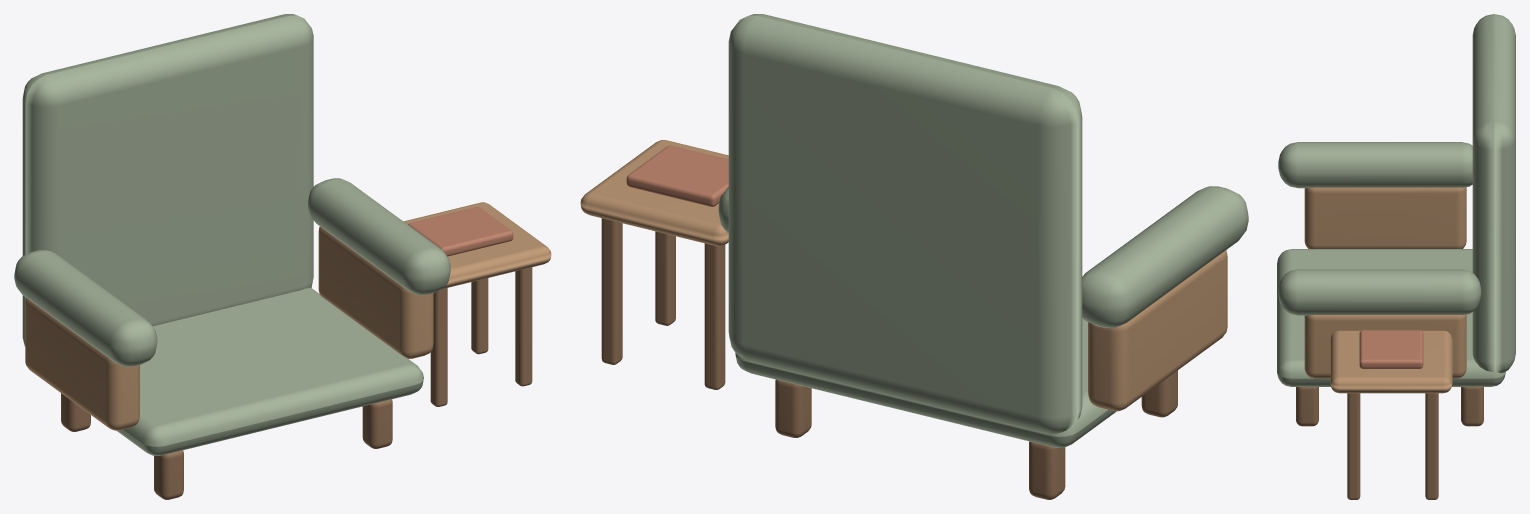
File: reading-seat-props.glb
3 renders of one model, left to right at view 1: azimuth 30°, elevation 25°; view 2: azimuth 150°, elevation 25°; view 3: azimuth 270°, elevation 25°, orthographic. The views are drawn at different scales.
Visible parts, largest first — view 1: ReaderChair.Static.Library | sage chair, ReaderChair.Static.Library | honey oak, ReaderChair.Static.Library | walnut legs, ReaderSideTable.Book; view 2: ReaderChair.Static.Library | sage chair, ReaderChair.Static.Library | honey oak, ReaderChair.Static.Library | walnut legs, ReaderSideTable.Book; view 3: ReaderChair.Static.Library | sage chair, ReaderChair.Static.Library | honey oak, ReaderChair.Static.Library | walnut legs, ReaderSideTable.Book.
Part boxes in pixels (box(x1,y1,x2,y2)): ReaderChair.Static.Library | sage chair: box(14, 14, 450, 455); ReaderChair.Static.Library | honey oak: box(25, 202, 551, 430); ReaderChair.Static.Library | walnut legs: box(61, 267, 532, 499); ReaderSideTable.Book: box(408, 207, 513, 256); ReaderChair.Static.Library | sage chair: box(718, 14, 1248, 447); ReaderChair.Static.Library | honey oak: box(580, 140, 1227, 411); ReaderChair.Static.Library | walnut legs: box(601, 218, 1177, 499); ReaderSideTable.Book: box(626, 145, 728, 206); ReaderChair.Static.Library | sage chair: box(1277, 14, 1515, 386); ReaderChair.Static.Library | honey oak: box(1304, 187, 1466, 393); ReaderChair.Static.Library | walnut legs: box(1296, 387, 1483, 499); ReaderSideTable.Book: box(1359, 330, 1423, 368).
Size of the model in its own units: 1.65 by 1.18 by 0.825.
